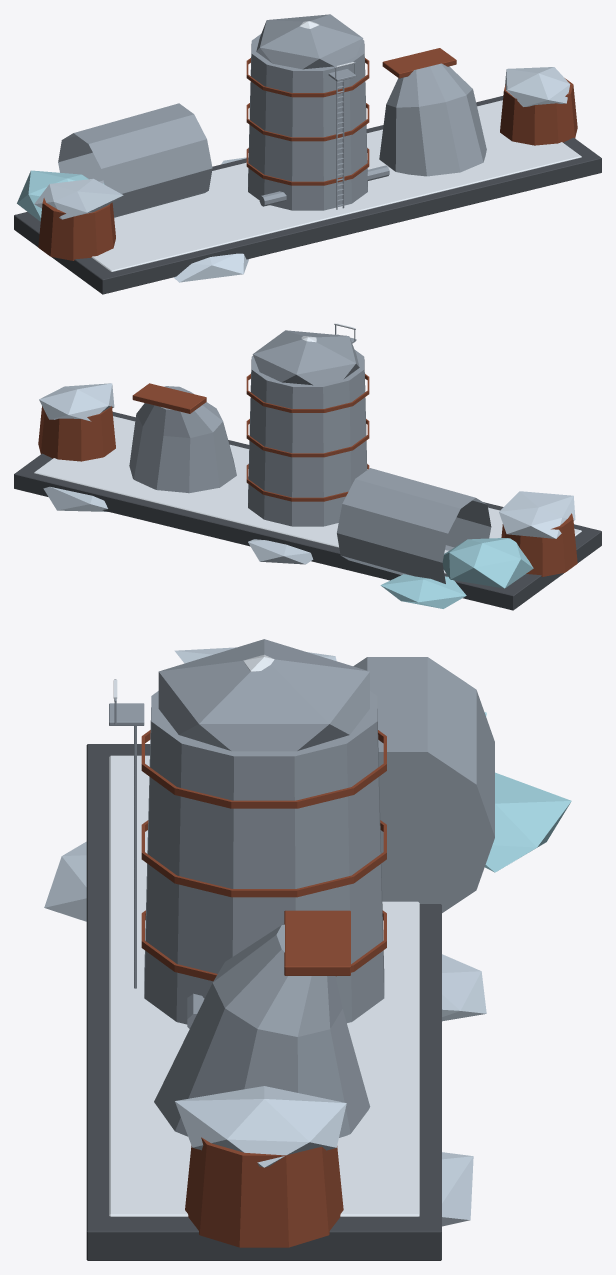
Rendered from Heritage_Tanks.fbx.
3 views of the same model, one above another, from view 1: azimuth 30°, elevation 25°; view 2: azimuth 150°, elevation 25°; view 3: azimuth 270°, elevation 25° (orthographic). The views are drawn at different scales.
Parts seen in each view (by area): view 1: Heritage_Tanks; view 2: Heritage_Tanks; view 3: Heritage_Tanks.
Part boxes in pixels (x1,y1,x2,y2): Heritage_Tanks: (14, 14, 601, 294); Heritage_Tanks: (14, 323, 601, 610); Heritage_Tanks: (44, 639, 571, 1260).
Bounding box in the file's own units: 5485 × 1910 × 2378.
